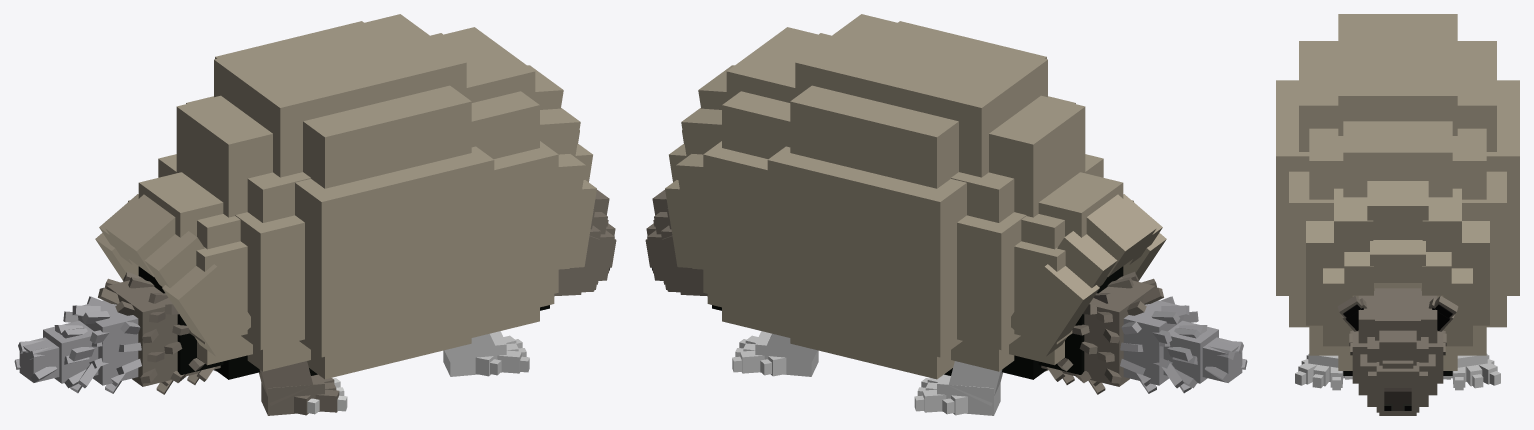
Rendered from glyptodont.obj.
3 views of the same model, side by side, from view 1: azimuth 30°, elevation 25°; view 2: azimuth 150°, elevation 25°; view 3: azimuth 270°, elevation 25° (orthographic). The views are drawn at different scales.
Visible parts, largest first — view 1: Cube.001, Cube.002, Cube.026, Cube.006, Cube.004, Cube.005, Cube.009, Cube.010; view 2: Cube.001, Cube.002, Cube.026, Cube.007, Cube.003, Cube.005, Cube.009, Cube.010; view 3: Cube.001, Cube.005, Cube.003, Cube.004.
Boxes of the visible parts, x1,y1,x2,y2 form: Cube.001: (95, 14, 596, 379); Cube.002: (98, 271, 220, 394); Cube.026: (63, 296, 141, 393); Cube.006: (259, 361, 347, 415); Cube.004: (443, 331, 529, 376); Cube.005: (554, 190, 616, 296); Cube.009: (43, 320, 99, 393); Cube.010: (14, 337, 59, 382); Cube.001: (665, 14, 1166, 379); Cube.002: (1041, 271, 1163, 394); Cube.026: (1120, 296, 1198, 393); Cube.007: (914, 361, 1002, 415); Cube.003: (732, 331, 818, 376); Cube.005: (645, 190, 707, 296); Cube.009: (1162, 320, 1218, 393); Cube.010: (1202, 337, 1247, 382); Cube.001: (1276, 14, 1519, 375); Cube.005: (1337, 288, 1458, 415); Cube.003: (1443, 353, 1500, 390); Cube.004: (1295, 353, 1352, 390).
Bounding box in the file's own units: 7.11 × 3.53 × 2.86.
